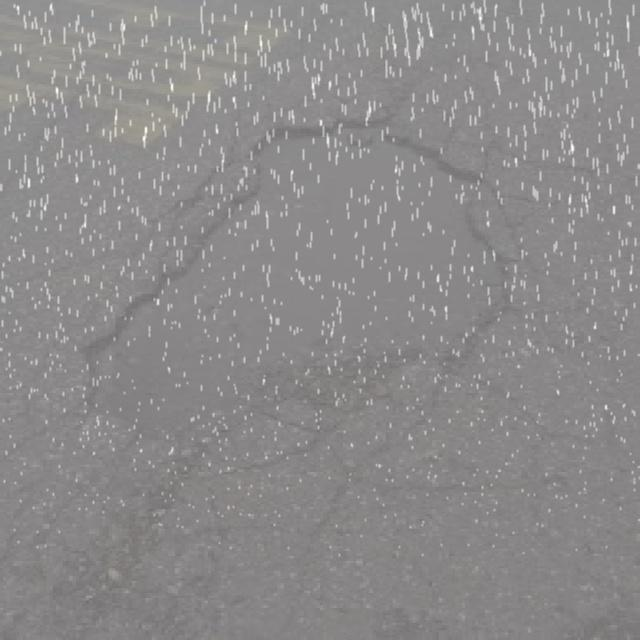Pothole: (74, 101, 527, 477)
